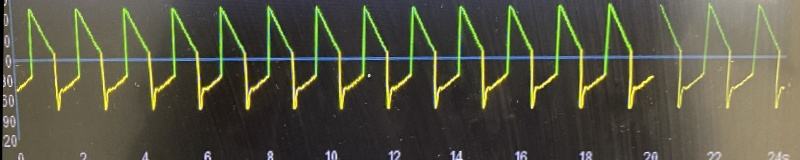peepi: (10, 0, 798, 115)
